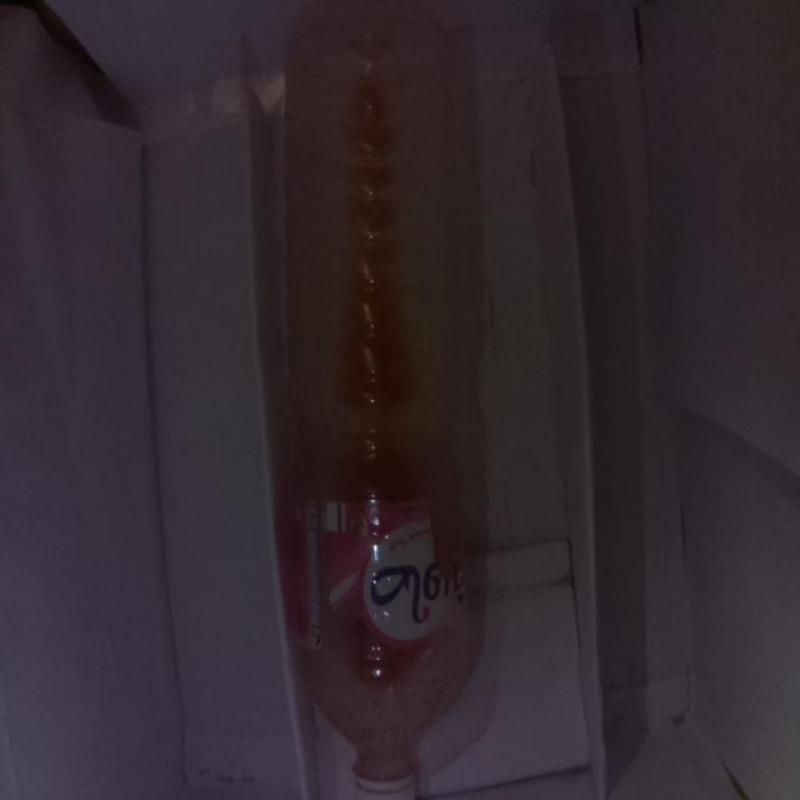botella: (284, 15, 464, 796)
